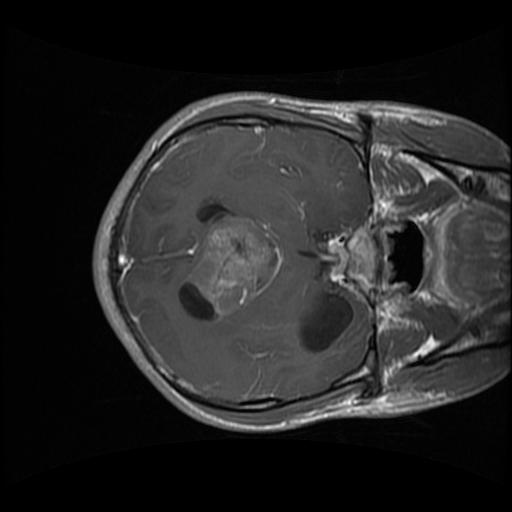glioma: (176, 198, 283, 327)
